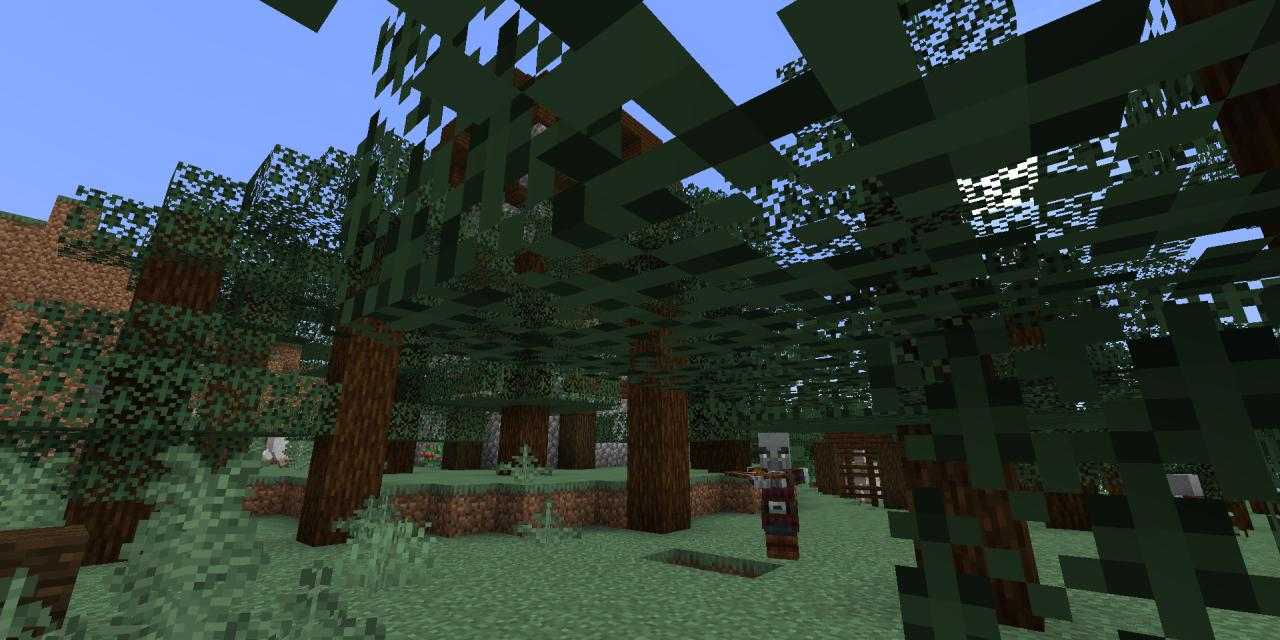pillager outpost: (392, 52, 698, 483)
